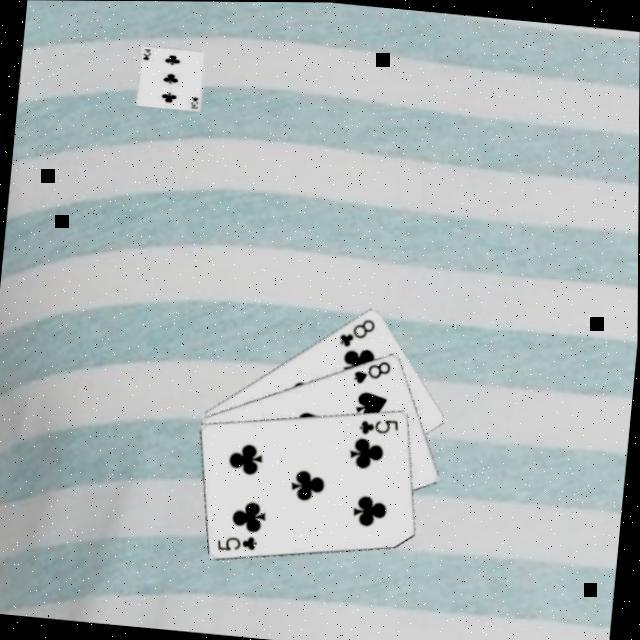5C: (354, 411, 401, 438), (213, 528, 261, 554)
8C: (334, 311, 377, 350)
8S: (350, 353, 394, 387)
